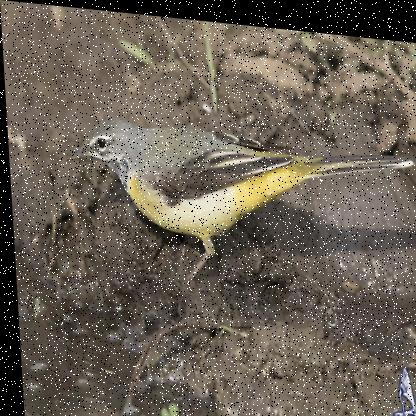Burung: (60, 112, 415, 298)
